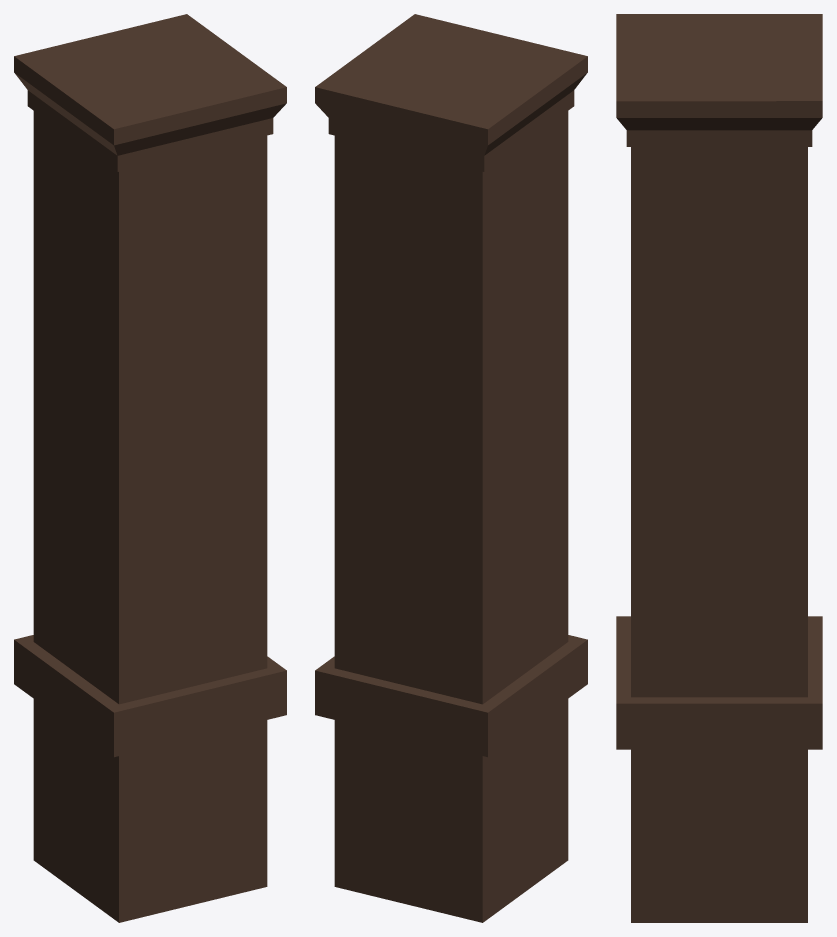
The model's file is S_ColumnFinal.fbx.
3 renders of one model, left to right at view 1: azimuth 30°, elevation 25°; view 2: azimuth 150°, elevation 25°; view 3: azimuth 270°, elevation 25°, orthographic. The views are drawn at different scales.
Visible parts, largest first — view 1: S_ColumnFinal; view 2: S_ColumnFinal; view 3: S_ColumnFinal.
Boxes of the visible parts, left/top/right/bottom form: S_ColumnFinal: left=14, top=14, right=286, bottom=922; S_ColumnFinal: left=315, top=14, right=587, bottom=922; S_ColumnFinal: left=616, top=14, right=822, bottom=922.
Size of the model in its own units: 70 by 310 by 70.
